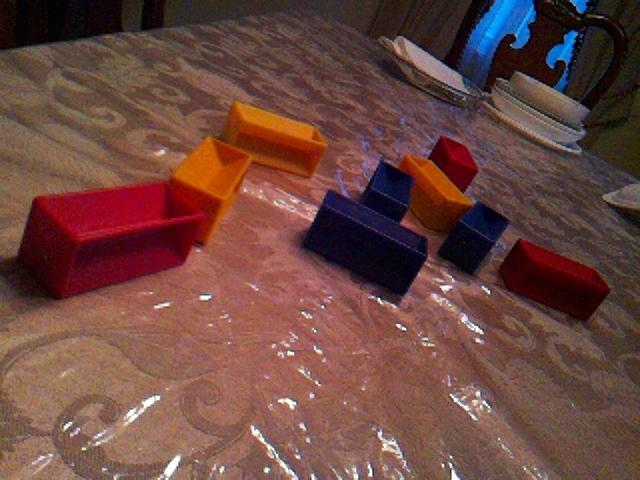blue: (301, 187, 430, 297), (437, 200, 511, 276), (360, 158, 416, 223)
red: (17, 179, 207, 300), (497, 236, 612, 323), (428, 134, 480, 193)
yellow: (169, 135, 253, 246), (220, 99, 329, 179), (398, 152, 474, 233)
